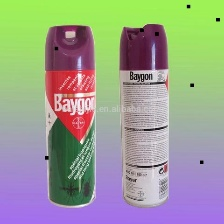aerosol_cans: (113, 20, 172, 211), (42, 18, 98, 208)
